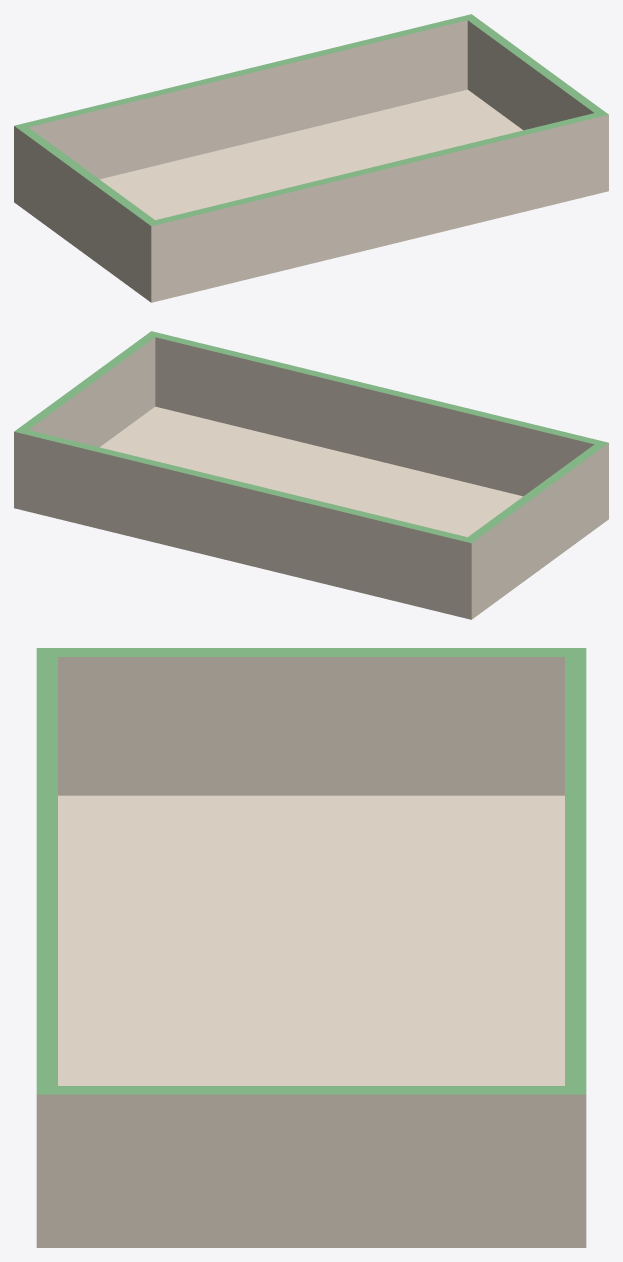
The model's file is arena.dae.
3 renders of one model, top to bottom at view 1: azimuth 30°, elevation 25°; view 2: azimuth 150°, elevation 25°; view 3: azimuth 270°, elevation 25°, orthographic. The views are drawn at different scales.
Visible parts, largest first — view 1: ARBotArenaWalls v6, ARBotArenaBotom v3; view 2: ARBotArenaWalls v6, ARBotArenaBotom v3; view 3: ARBotArenaWalls v6, ARBotArenaBotom v3.
Boxes of the visible parts, x1,y1,x2,y2 form: ARBotArenaWalls v6: (14, 14, 608, 302); ARBotArenaBotom v3: (100, 89, 522, 220); ARBotArenaWalls v6: (14, 331, 608, 619); ARBotArenaBotom v3: (100, 406, 522, 537); ARBotArenaWalls v6: (36, 648, 586, 1247); ARBotArenaBotom v3: (58, 795, 564, 1085).
Size of the model in its own units: 1270 by 660 by 204.
